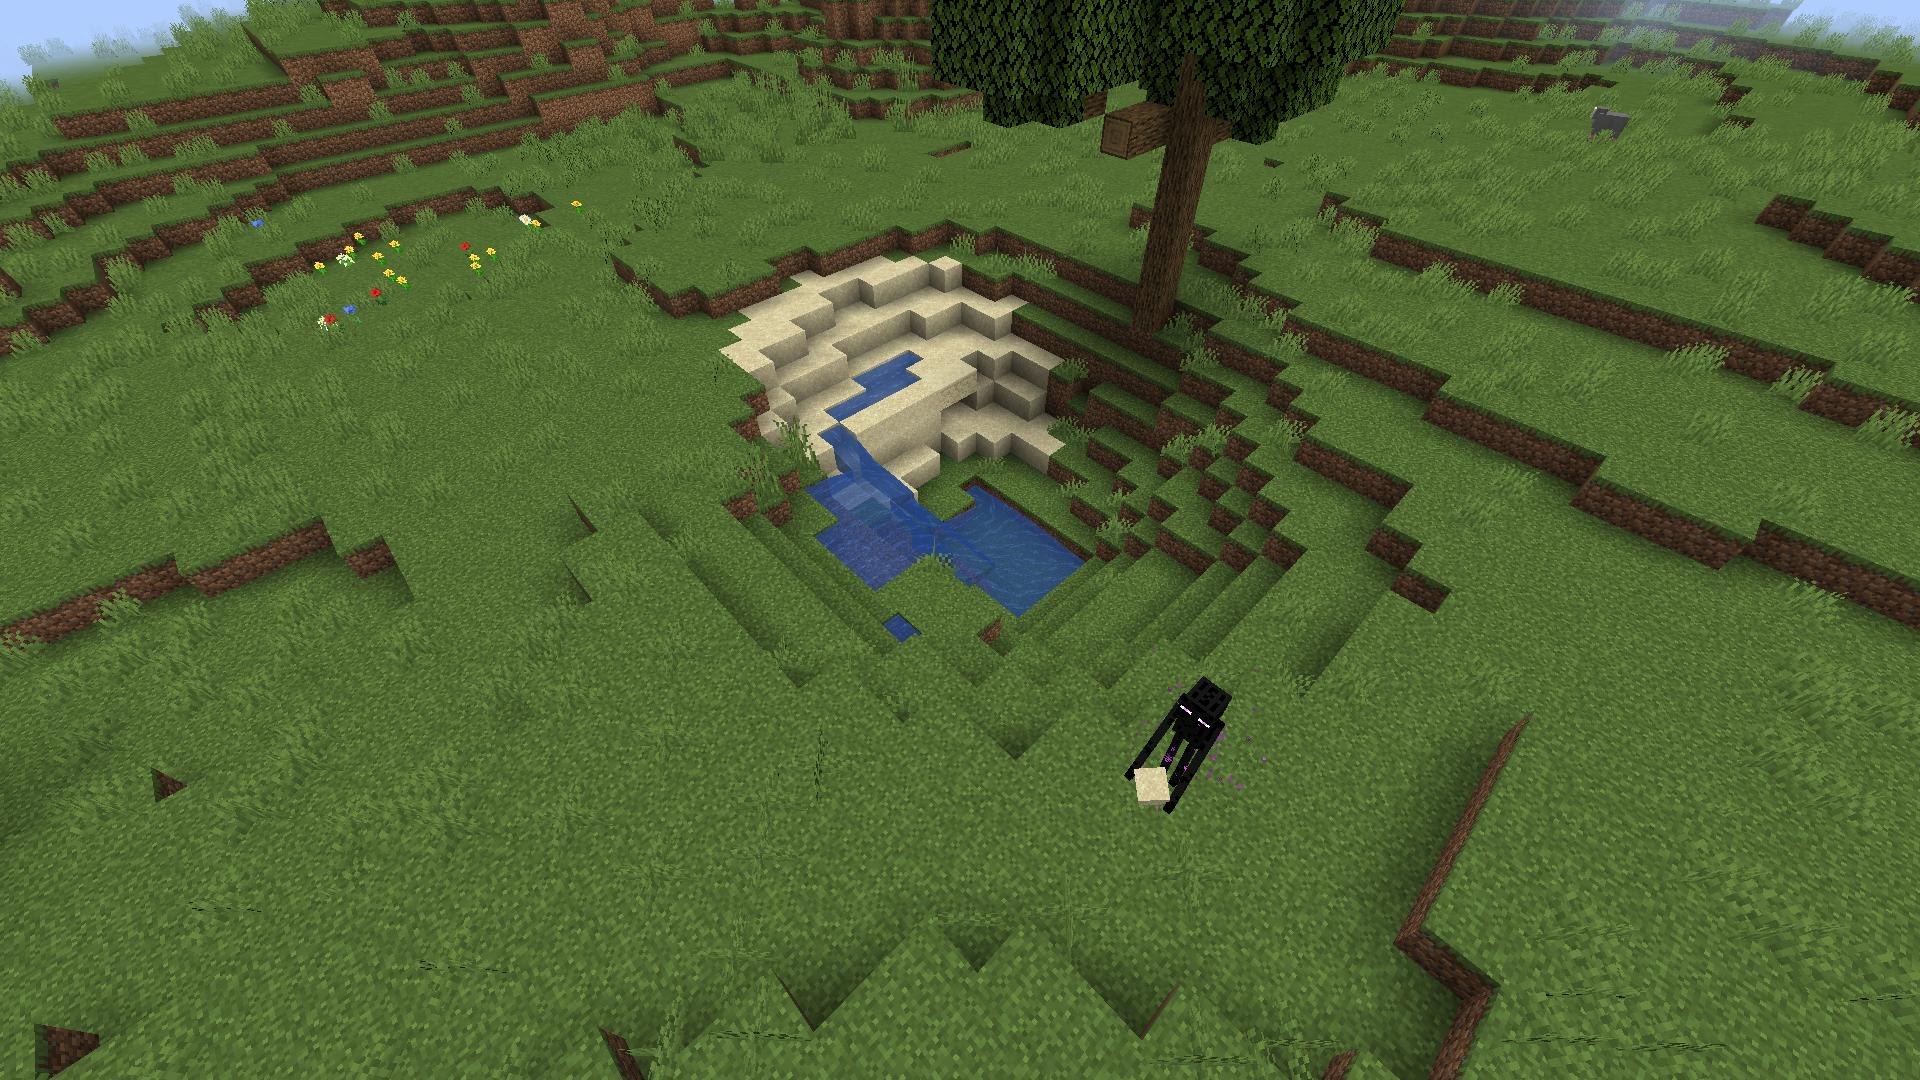enderman: (1118, 670, 1242, 819)
sheep: (1589, 104, 1631, 141)
